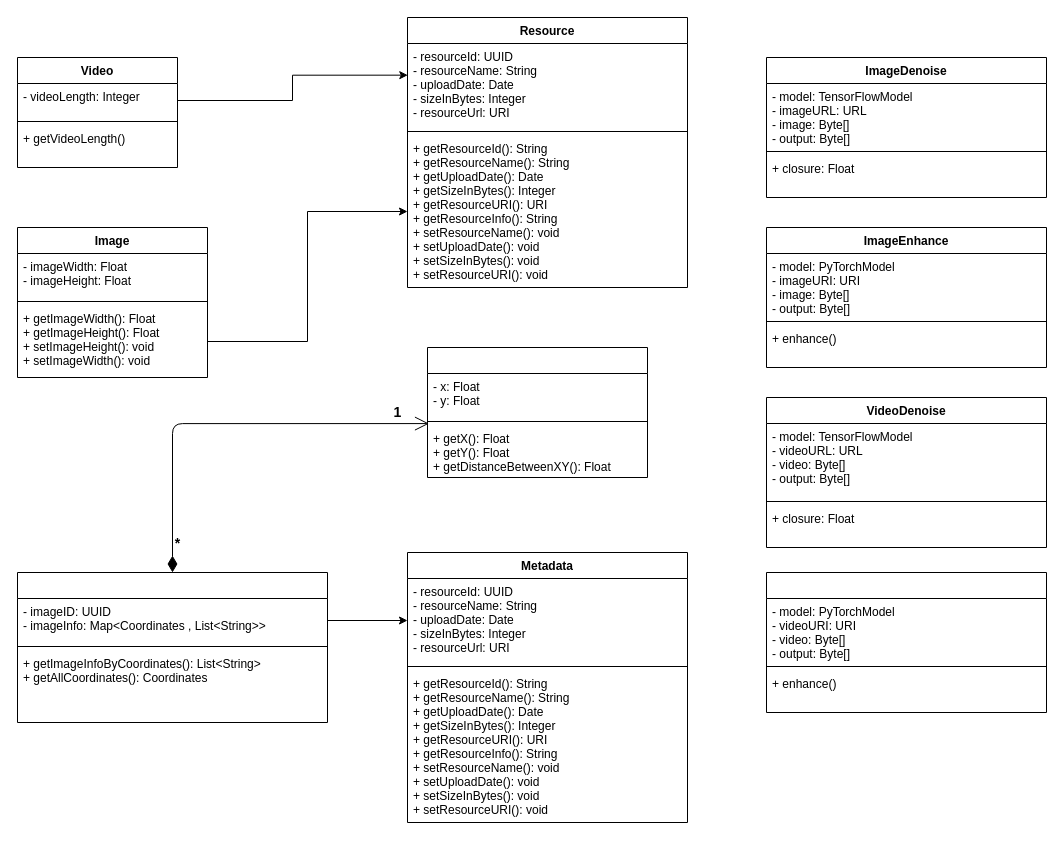
Some shapes in this 1064 by 843 pixel diagram are drawn without their labels. Each missing label, with the box of its shape:
Coordinates: (426, 346, 648, 478)
ImageMetadata: (16, 572, 328, 722)
VideoEnhance: (766, 572, 1046, 712)
